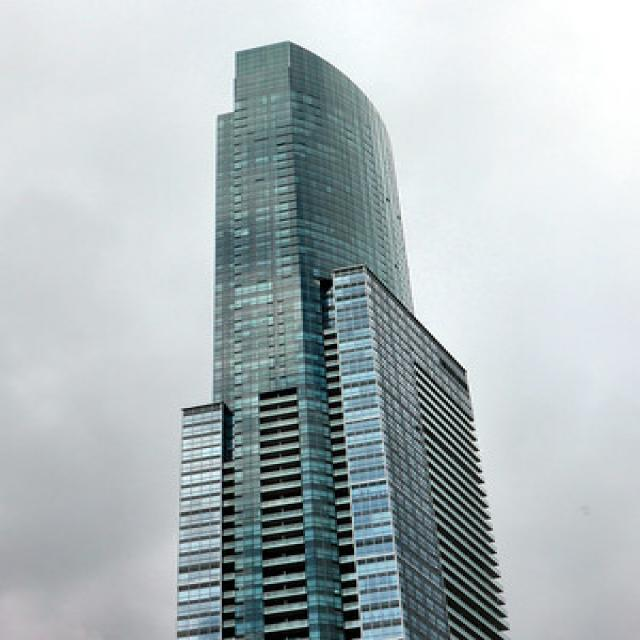Normal_building: (170, 27, 515, 640)
